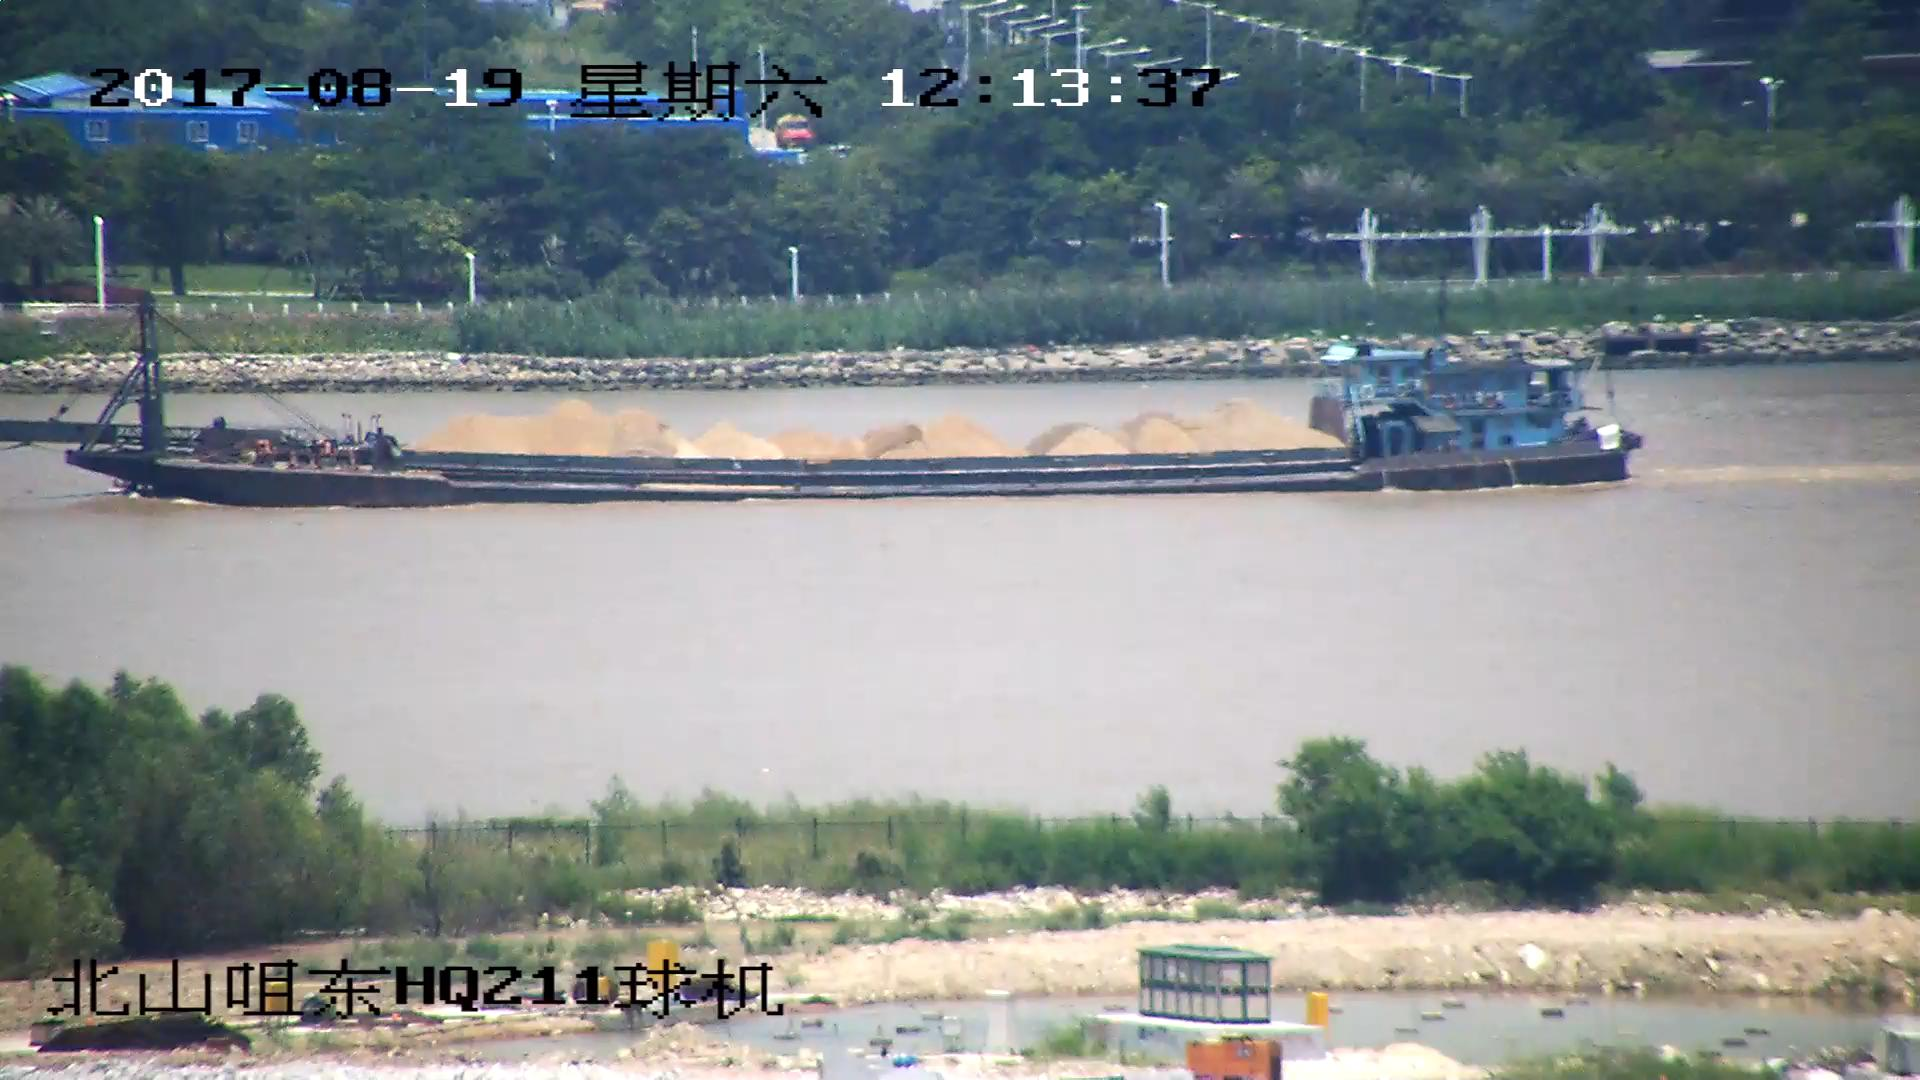ore carrier: (1, 289, 1642, 506)
